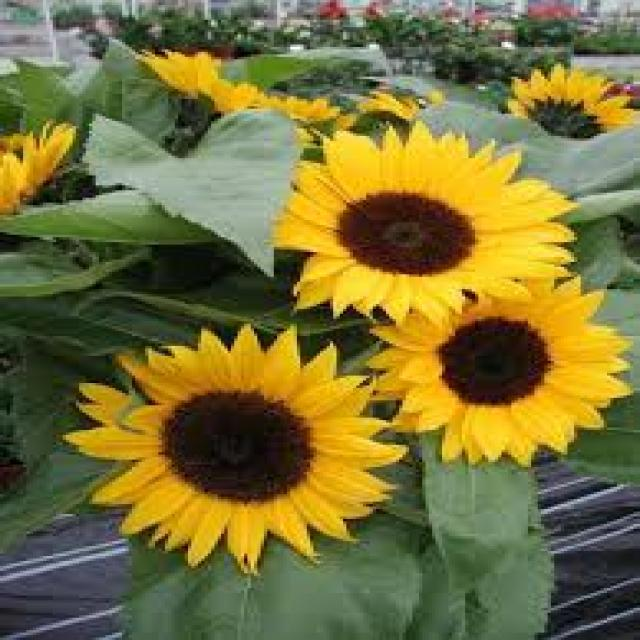sunflower: (67, 314, 419, 582), (264, 114, 586, 331), (356, 261, 640, 475), (123, 39, 345, 136), (488, 59, 640, 149), (0, 109, 91, 230), (325, 83, 449, 138)
